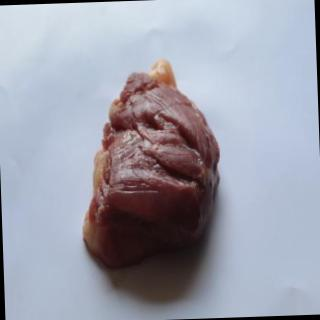Daging Sapi: (81, 60, 226, 268)
